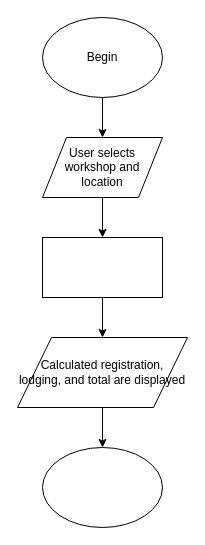
This 205x545 diagram has some shape labels left out. The shapes that lost their labels are listed below. From the top down, each one's box as (x1, y1, x2, y2) in pixels, then its label:
(42, 236, 162, 298): Input location, workshop, and total are calculated
(42, 446, 162, 528): End
